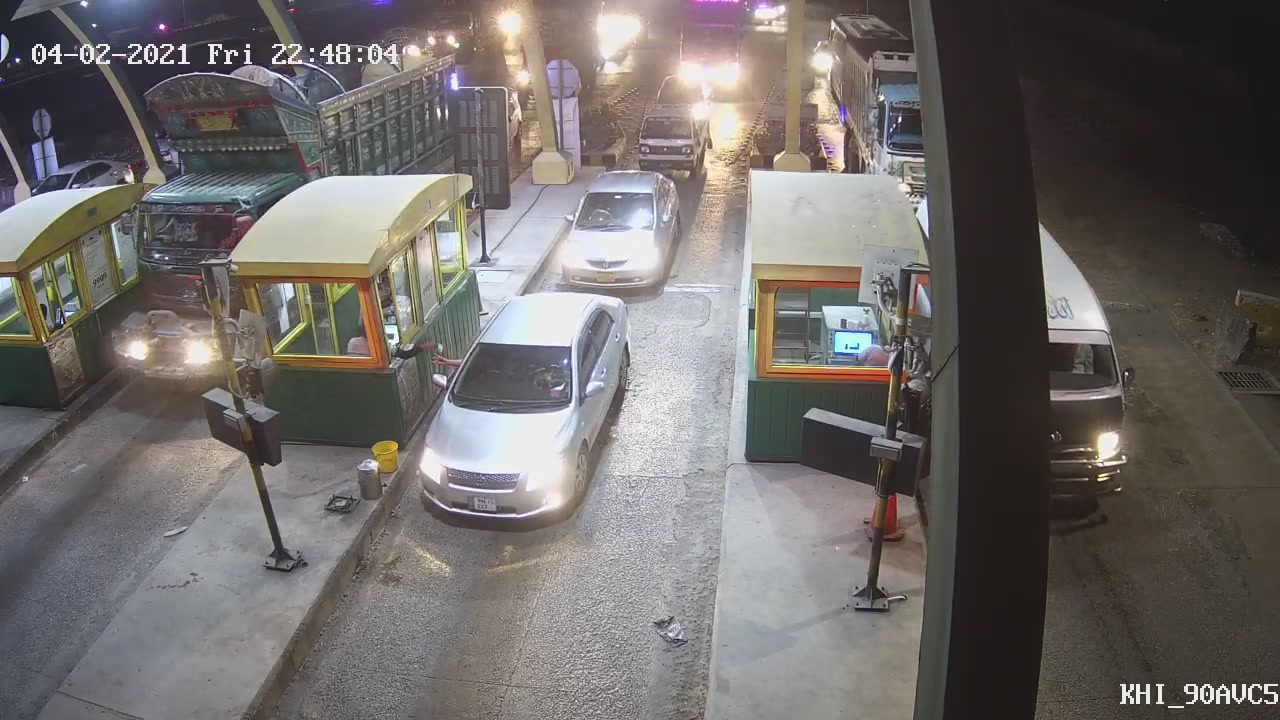F1: (415, 292, 634, 526), (560, 164, 681, 289)
